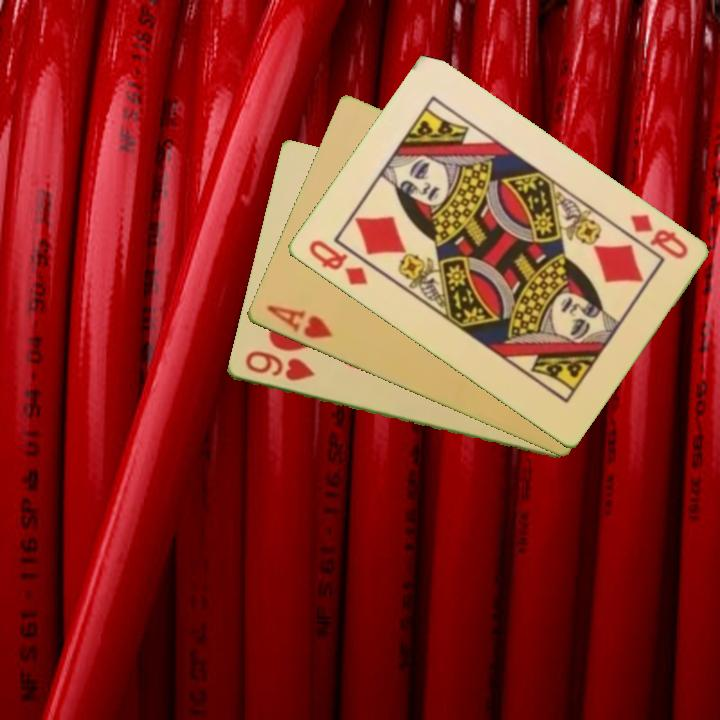9h: (241, 347, 317, 384)
Ah: (262, 301, 335, 343)
Qd: (305, 236, 371, 289), (625, 210, 691, 263)
